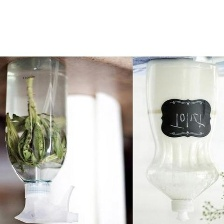cleaning_solution: (2, 57, 83, 224), (144, 57, 223, 222)
